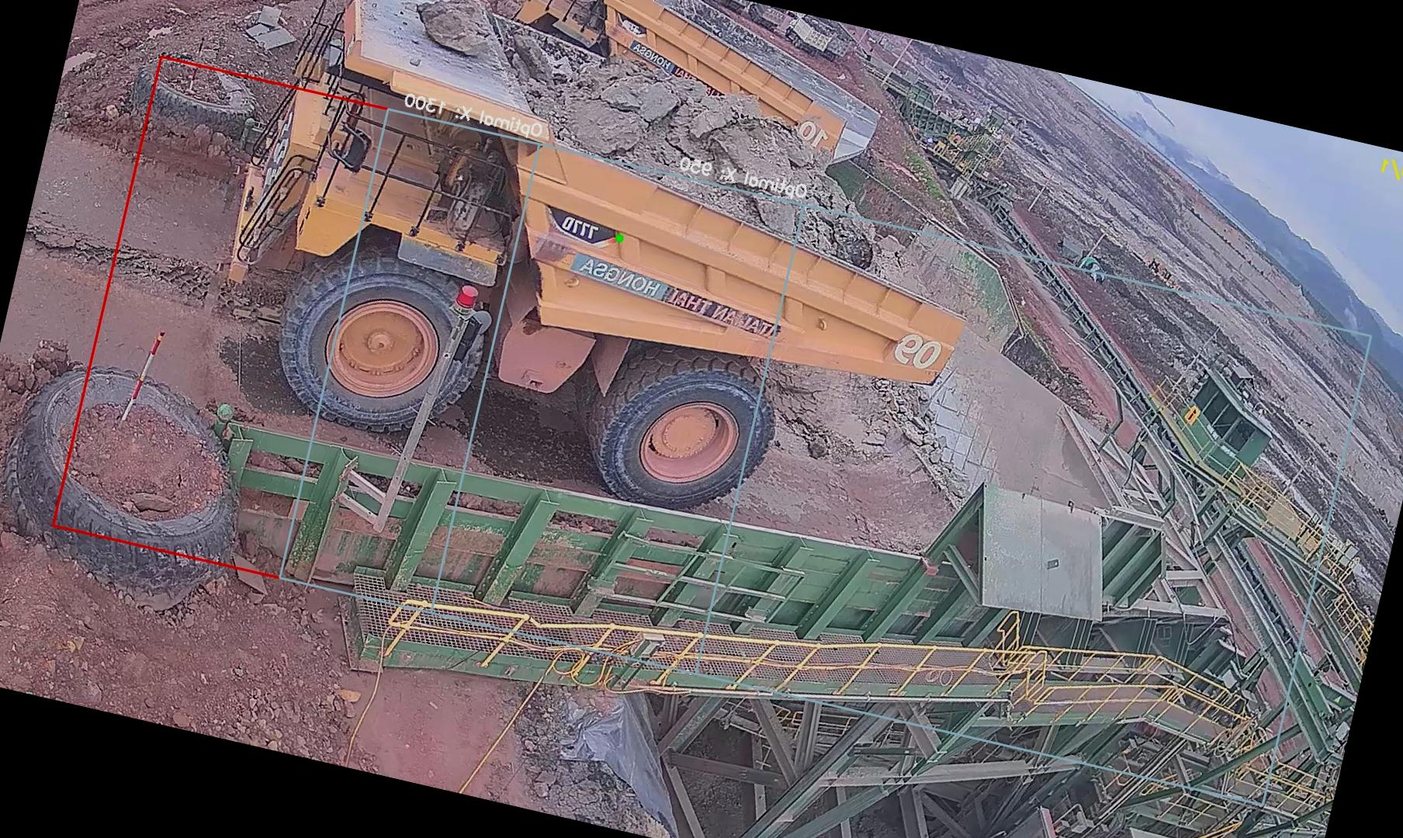company: (560, 247, 794, 346)
full_load: (504, 35, 860, 239)
mining_truck: (172, 0, 1027, 563)
tail_number: (876, 317, 949, 384)
truck_size: (531, 201, 633, 250)
